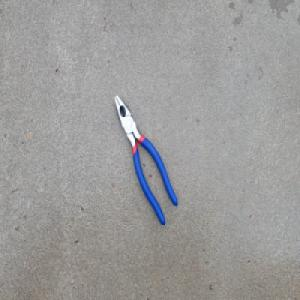Pliers: (113, 91, 178, 226)
